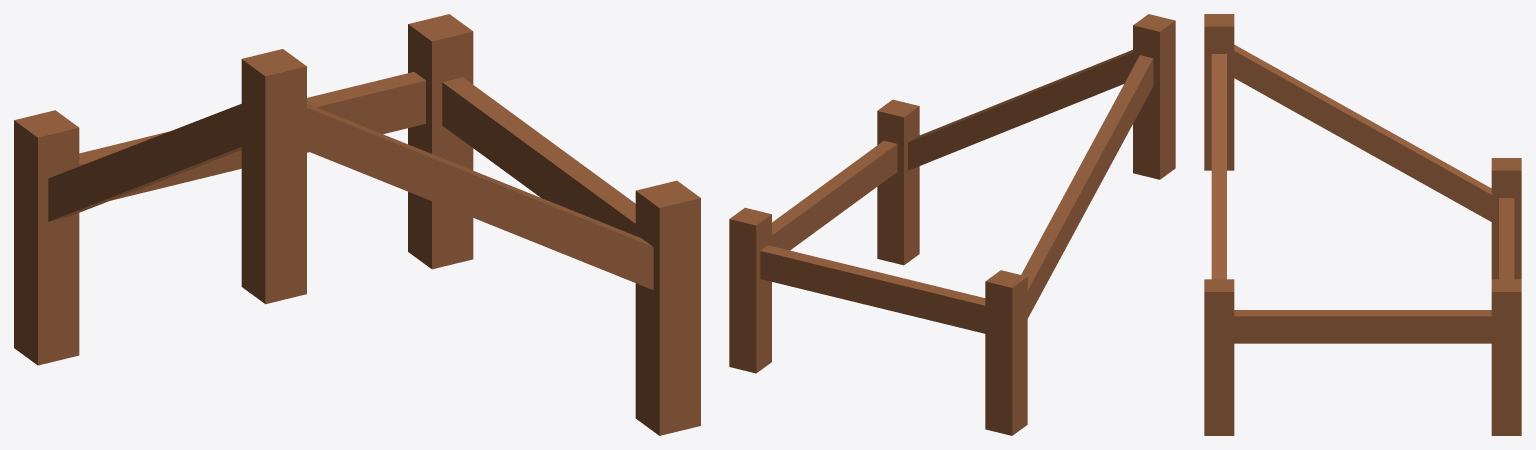
The model's file is ObstacleSmallCornerUPWards.obj.
3 renders of one model, left to right at view 1: azimuth 30°, elevation 25°; view 2: azimuth 150°, elevation 25°; view 3: azimuth 270°, elevation 25°, orthographic. The views are drawn at different scales.
Parts seen in each view (by area): view 1: woodStructure; view 2: woodStructure; view 3: woodStructure.
Part boxes in pixels (<box>): woodStructure: <box>14,14,700,435</box>; woodStructure: <box>729,14,1175,435</box>; woodStructure: <box>1204,14,1521,435</box>.
Size of the model in its own units: 1 by 1 by 1.
